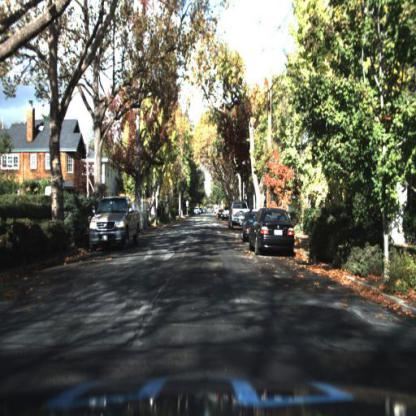car: (91, 193, 138, 255), (249, 206, 296, 257), (226, 197, 251, 233), (230, 201, 244, 233), (242, 212, 253, 247), (219, 208, 226, 222)
